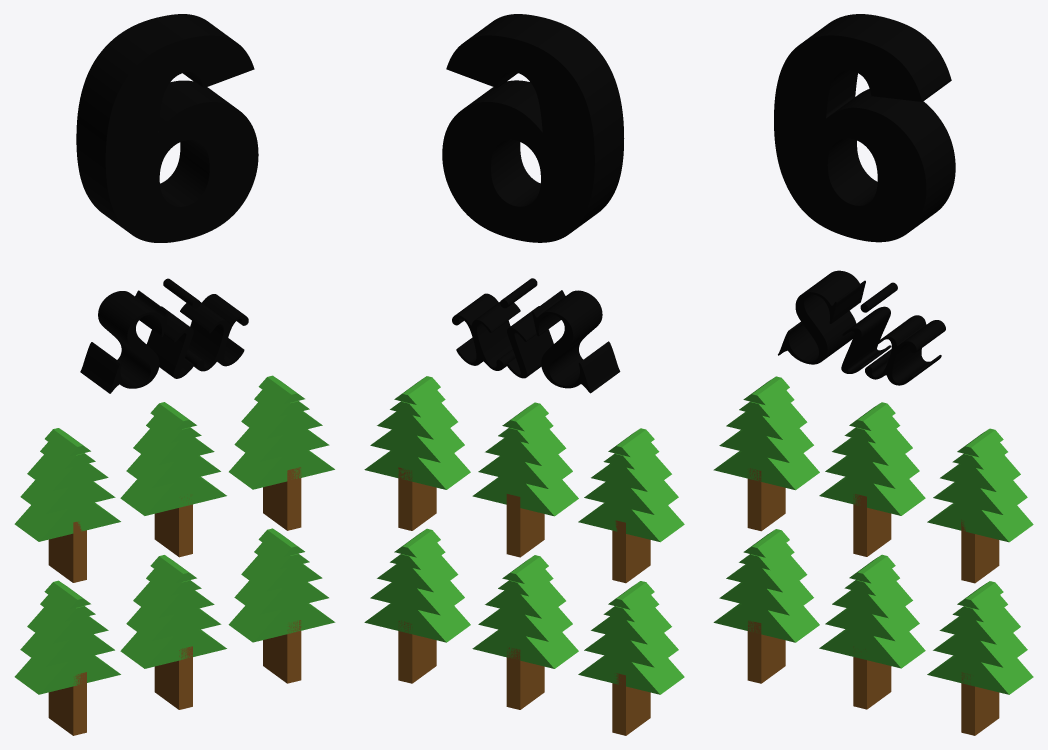
The model's file is Number_6.glb.
3 views of the same model, side by side, from view 1: azimuth 30°, elevation 25°; view 2: azimuth 150°, elevation 25°; view 3: azimuth 330°, elevation 25° (orthographic).
Visible parts, largest first — view 1: Text, Text.001, Cube.020, Cube.002, Cube.026, Cube.035, Cube.017, Cube.011, Cube.003, Cube.010, Cube.034, Cube.016 (+26 smaller); view 2: Text, Text.001, Cube.020, Cube.017, Cube.035, Cube.026, Cube.011, Cube.002, Cube.027, Cube.003, Cube.021, Cube.034 (+26 smaller); view 3: Text, Text.001, Cube.017, Cube.011, Cube.020, Cube.035, Cube.026, Cube.002, Cube.034, Cube.021, Cube.003, Cube.010 (+26 smaller).
Boxes of the visible parts, <box> form: Text: <box>76,14,258,242</box>; Text.001: <box>80,278,248,393</box>; Cube.020: <box>228,602,335,642</box>; Cube.002: <box>120,476,226,515</box>; Cube.026: <box>14,654,120,694</box>; Cube.035: <box>120,628,226,668</box>; Cube.017: <box>229,449,334,489</box>; Cube.011: <box>14,502,120,541</box>; Cube.003: <box>126,454,220,488</box>; Cube.010: <box>20,480,115,514</box>; Cube.034: <box>126,607,221,641</box>; Cube.016: <box>234,428,329,462</box>; Text: <box>442,14,624,242</box>; Text.001: <box>452,278,620,393</box>; Cube.020: <box>364,602,470,642</box>; Cube.017: <box>364,450,470,489</box>; Cube.035: <box>472,628,578,668</box>; Cube.026: <box>578,655,684,694</box>; Cube.011: <box>578,503,684,542</box>; Cube.002: <box>472,476,578,516</box>; Cube.027: <box>584,632,678,667</box>; Cube.003: <box>478,454,572,488</box>; Cube.021: <box>370,580,464,615</box>; Cube.034: <box>478,607,572,641</box>; Text: <box>774,14,955,242</box>; Text.001: <box>778,270,945,385</box>; Cube.017: <box>927,502,1033,542</box>; Cube.011: <box>713,450,819,490</box>; Cube.020: <box>927,654,1033,694</box>; Cube.035: <box>819,628,925,668</box>; Cube.026: <box>713,602,819,642</box>; Cube.002: <box>819,475,925,515</box>; Cube.034: <box>825,606,919,641</box>; Cube.021: <box>933,633,1027,667</box>; Cube.003: <box>825,454,919,488</box>; Cube.010: <box>719,428,813,462</box>.
Bounding box in the file's own units: 0.702 × 1.52 × 0.12.
